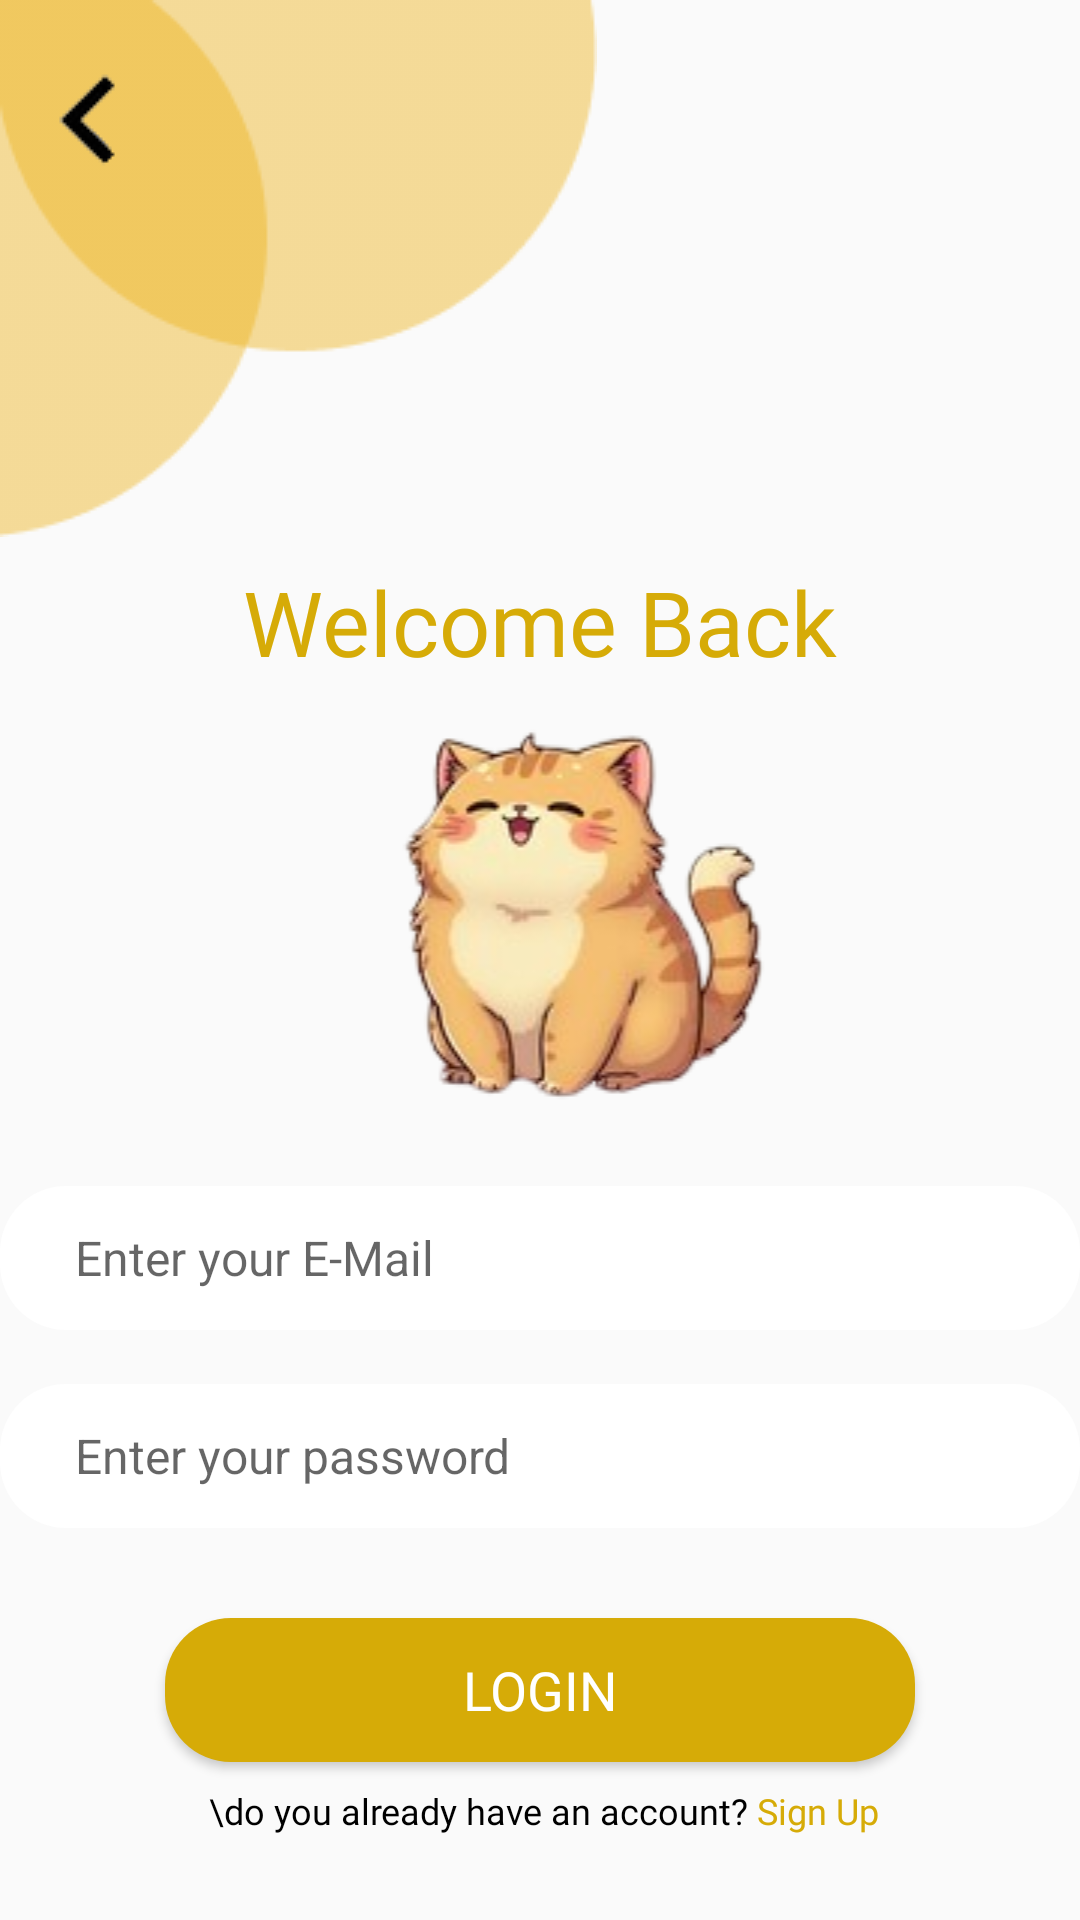

Screen size 1080px×1920px. Icon name, then its box in pixels as (left=x1, top=y1, right=x2, bottom=y2):
backbutton: (left=60, top=75, right=115, bottom=163)
